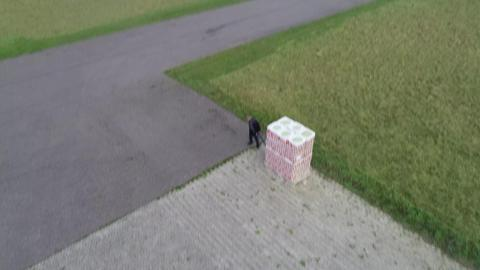RockwoolPallet: (264, 115, 315, 185)
